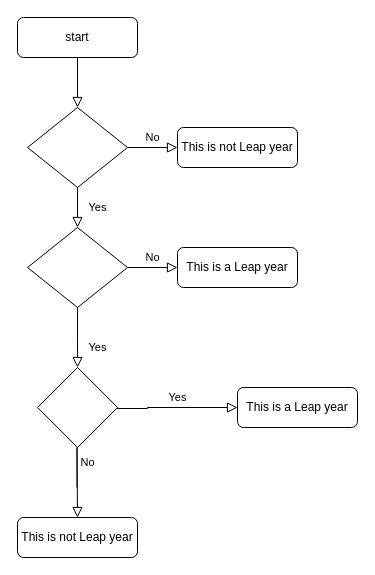
The diagram is 375 pixels wide and 575 high, and some of its shapes have lost their labels. Each missing label, with the box of its shape:
is divisible by 100?: (26, 226, 128, 308)
is divisible by 400?: (36, 366, 118, 448)
is divisible by 4?: (26, 106, 128, 188)
